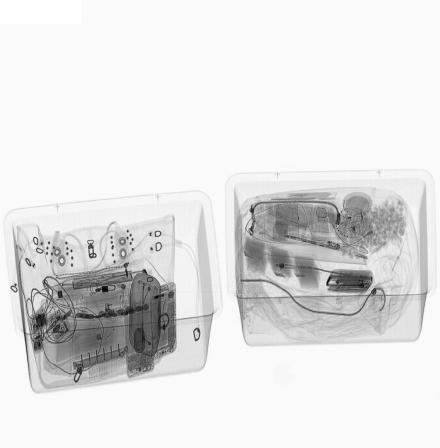Lighter: (142, 269, 148, 289)
